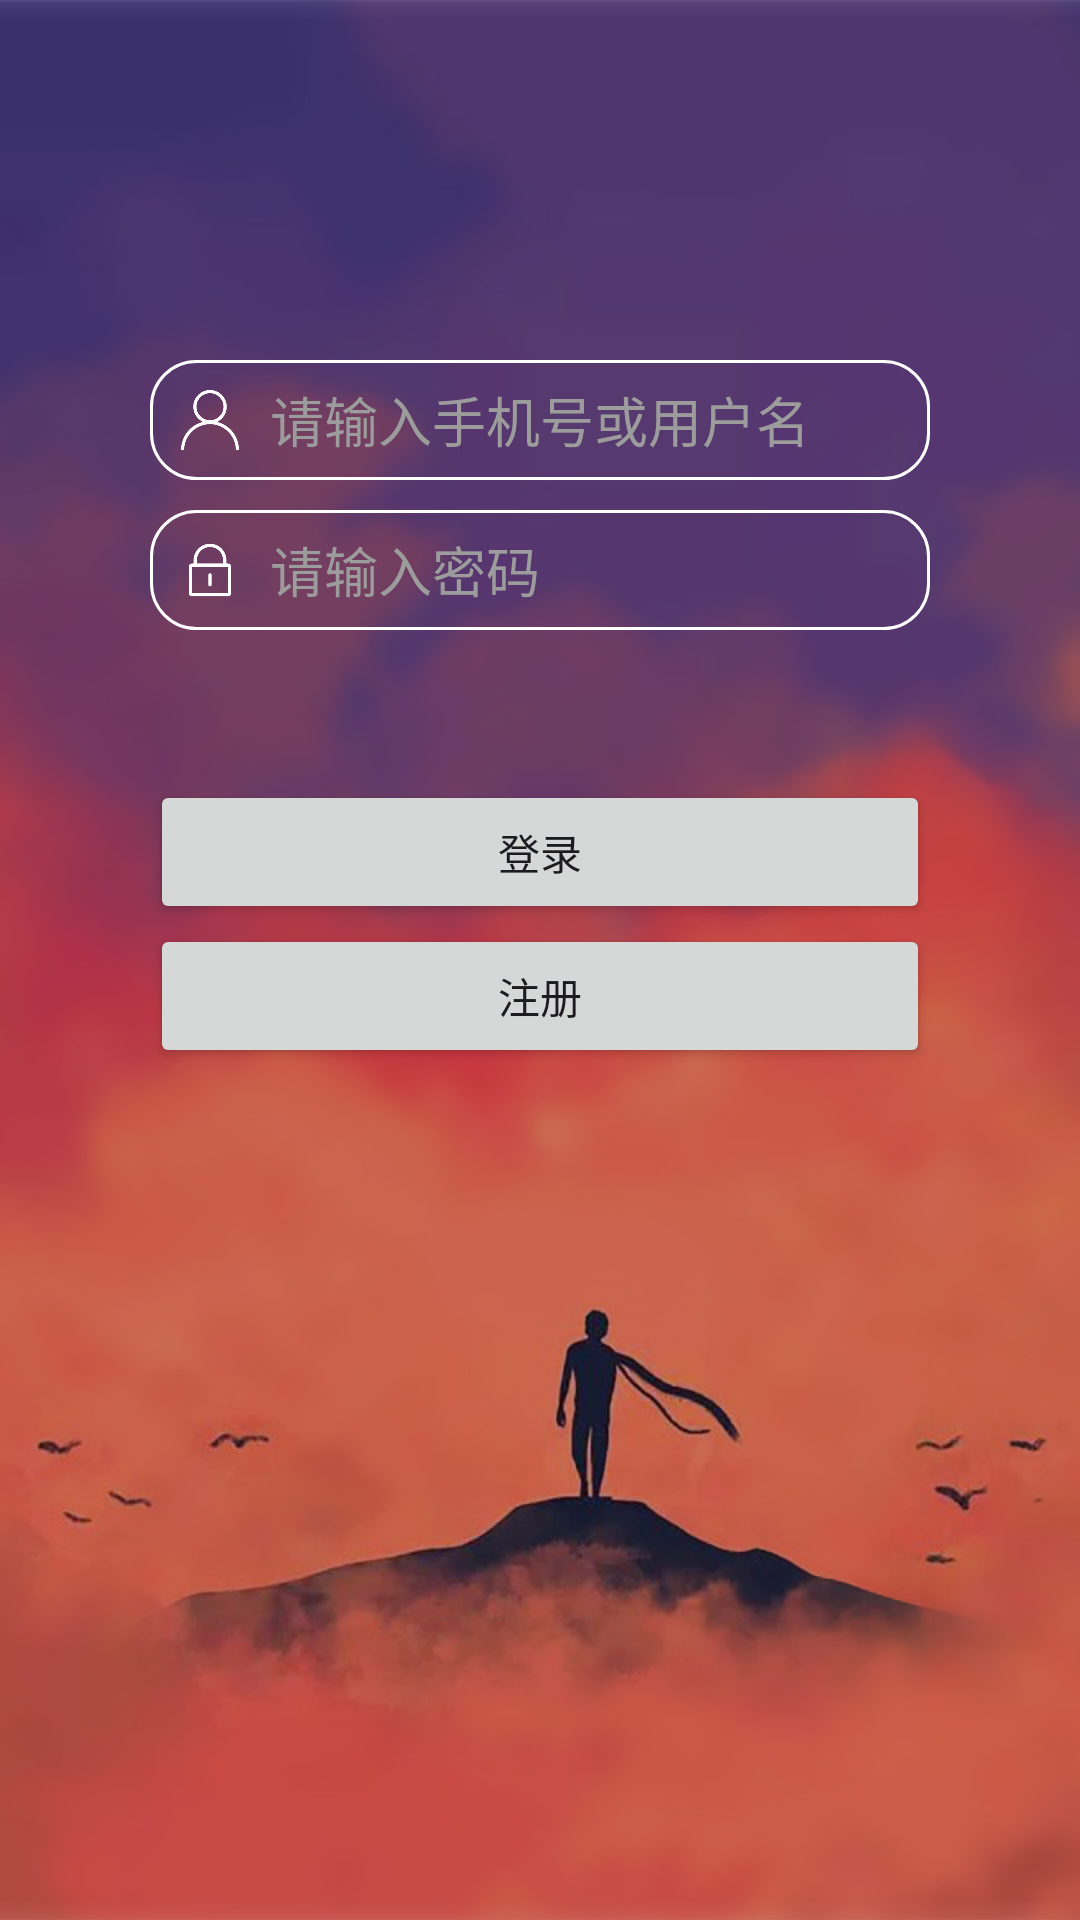

Named icons in this screenshot (1080×1920) and their centers, [x,y]:
account: [210,420]
password: [210,570]
